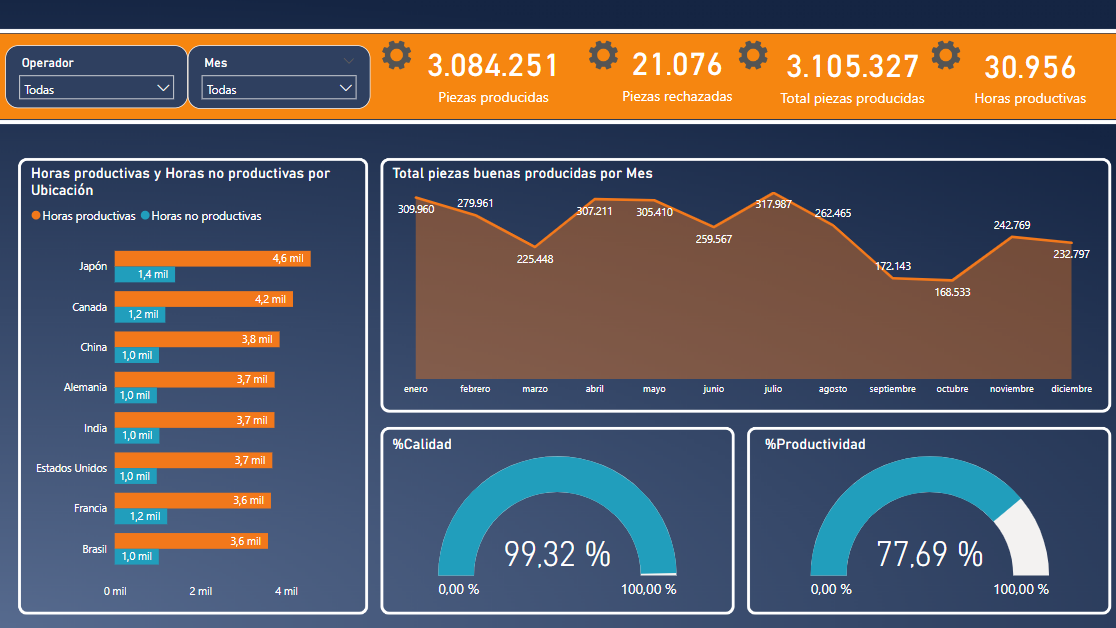

The page's visual inventory and layout, read from the dashboard file:
{"tool":"powerbi","page":{"name":"Página 1","canvas":[1280,720],"ordinal":0},"visuals":[{"type":"card","fields":{"Values":["Hoja1.Total piezas buenas producidas"]},"box":[472,39,188,89],"z":0},{"type":"card","fields":{"Values":["Hoja1.Total piezas rechazads"]},"box":[692,39,168,86],"z":1},{"type":"card","fields":{"Values":["Hoja1.Total piezas producidas"]},"box":[874,41,203,86],"z":2},{"type":"card","fields":{"Values":["Hoja1.Horas productivas"]},"box":[1076.7,41.1,203.3,86.7],"z":3},{"type":"clusteredBarChart","fields":{"Category":["Hoja1.Ubicación"],"Y":["Hoja1.Horas productivas","Hoja1.Horas no productivas"]},"box":[32,189,381,506],"z":4},{"type":"areaChart","fields":{"Category":["Hoja1.Fecha inicio.Variación.Jerarquía de fechas.Mes"],"Y":["Hoja1.Total piezas buenas producidas"]},"box":[444,189,814,274],"z":5},{"type":"gauge","fields":{"Y":["Hoja1.%Calidad"]},"box":[444,498,388,197],"z":6},{"type":"gauge","fields":{"Y":["Hoja1.%Productividad"]},"box":[870,498,388,197],"z":7},{"type":"slicer","fields":{"Values":["Hoja1.Operador"]},"box":[6.4,52.9,208.6,72.1],"z":8},{"type":"slicer","fields":{"Values":["Hoja1.Fecha inicio.Variación.Jerarquía de fechas.Mes"]},"box":[215,52.1,208.6,72.9],"z":9}]}

Visuals, with their boxes in screenshot pixels (x1, y1, x2, y2), scaled from the page's 1280x720 canvas onto the 1116x628 screenshot:
card - Hoja1.Total piezas buenas producidas: bbox=(412, 34, 575, 112)
card - Hoja1.Total piezas rechazads: bbox=(603, 34, 750, 109)
card - Hoja1.Total piezas producidas: bbox=(762, 36, 939, 111)
card - Hoja1.Horas productivas: bbox=(939, 36, 1115, 111)
clusteredBarChart - Hoja1.Ubicación x Hoja1.Horas productivas: bbox=(28, 165, 360, 606)
areaChart - Hoja1.Fecha inicio.Variación.Jerarquía de fechas.Mes x Hoja1.Total piezas buenas producidas: bbox=(387, 165, 1097, 404)
gauge - Hoja1.%Calidad: bbox=(387, 434, 725, 606)
gauge - Hoja1.%Productividad: bbox=(759, 434, 1097, 606)
slicer - Hoja1.Operador: bbox=(6, 46, 187, 109)
slicer - Hoja1.Fecha inicio.Variación.Jerarquía de fechas.Mes: bbox=(187, 45, 369, 109)
